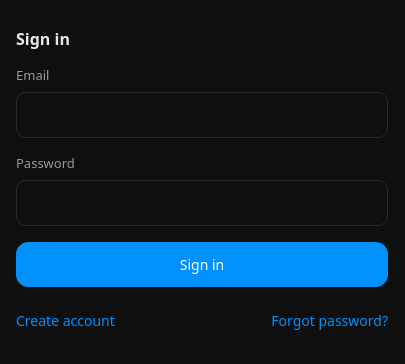
it: SignInScreen › says nothing answered when there is no network
In the field labelled "Email": (202, 115) [16,92,388,138], type "gabriel@example.com"
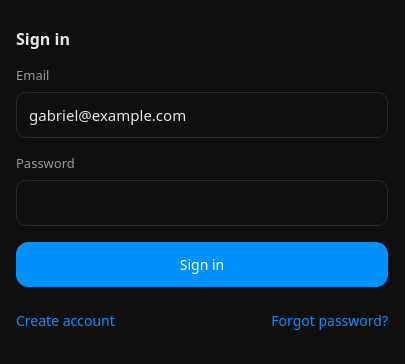
In the password field labelled "Password": (202, 203) [16,180,388,226], type "a-long-enough-password"
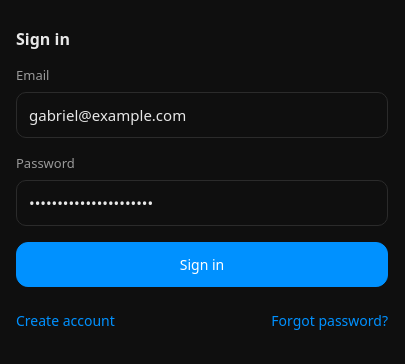
Click the button "Sign in": (202, 264) [16,242,388,287]
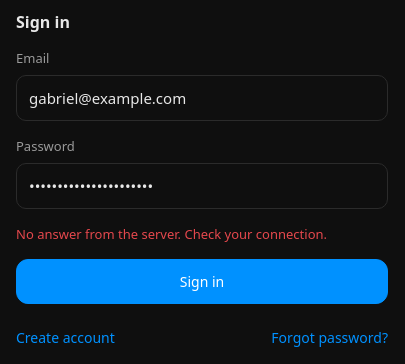
Expected: the message reads "No answer from the server. Check your connection.", [16,225,327,243]
